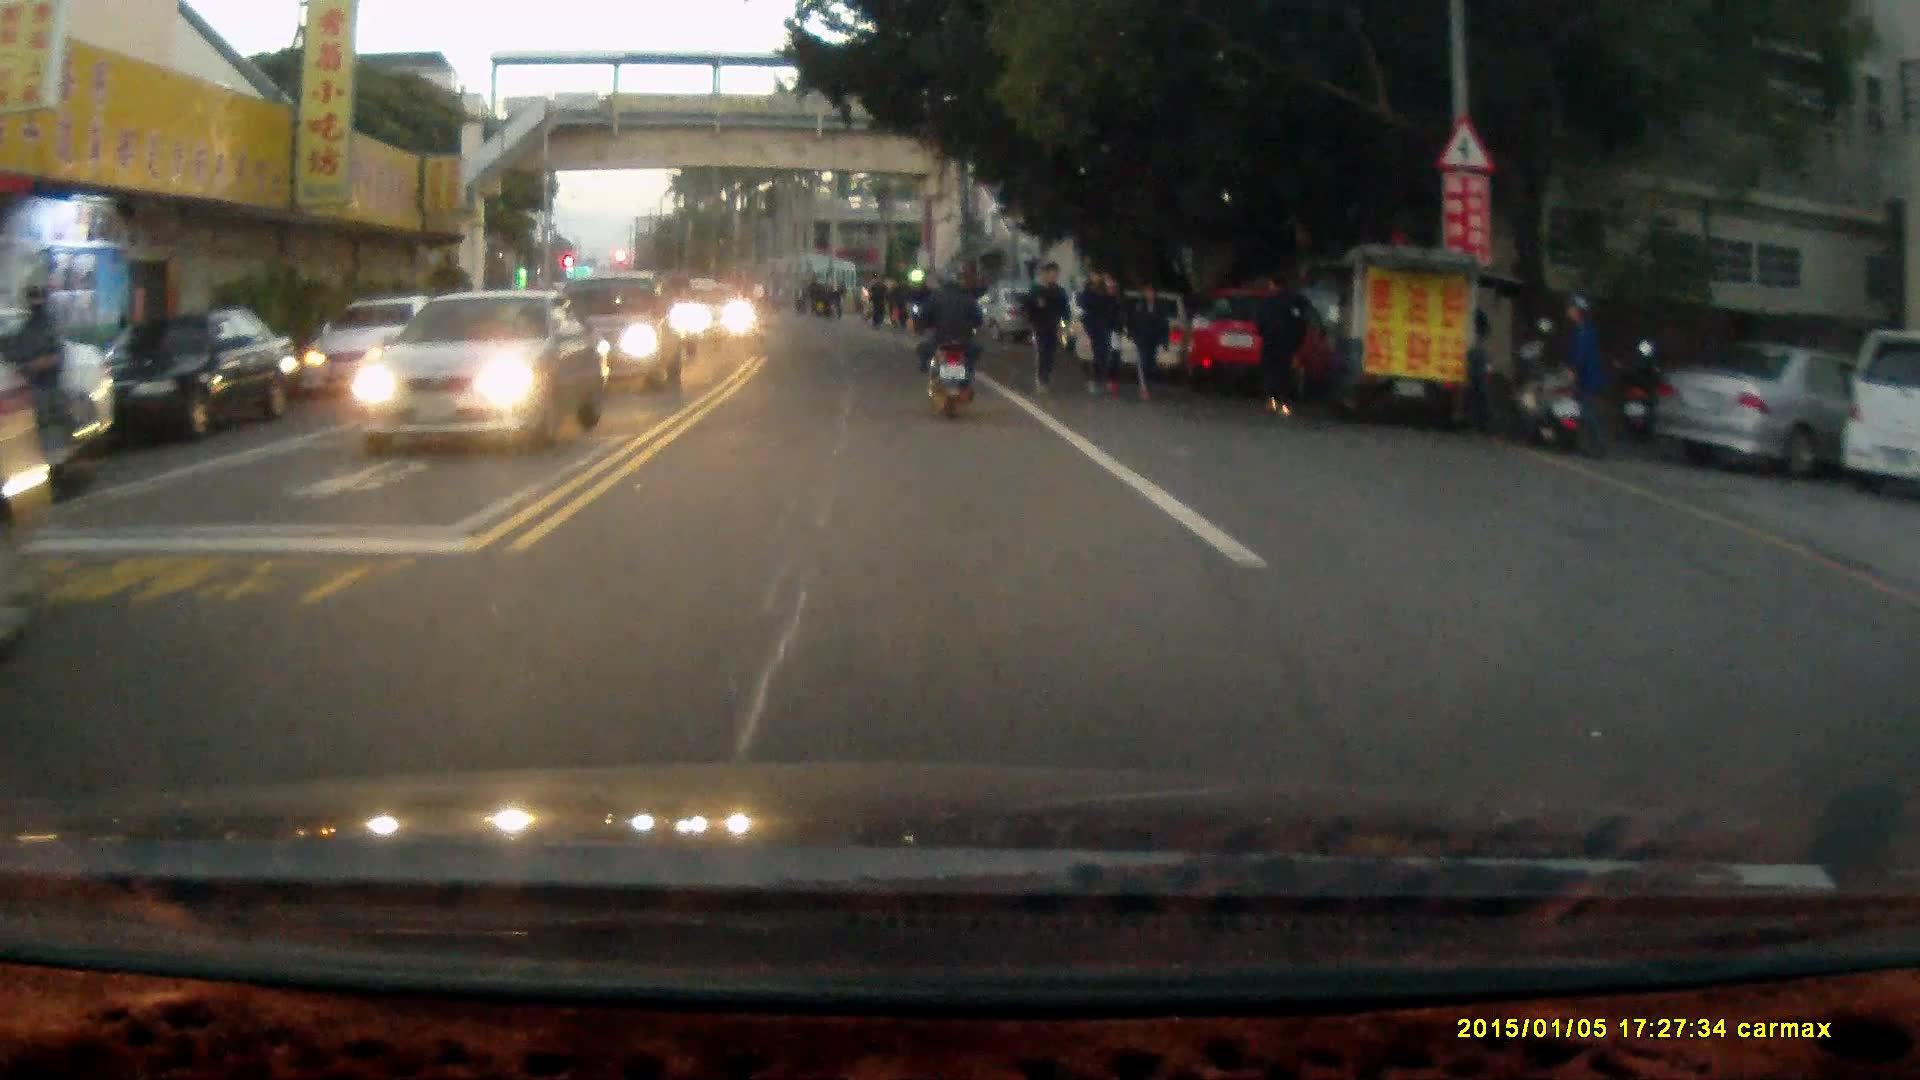pedestrian: (1248, 268, 1308, 420), (1554, 279, 1609, 445), (1019, 259, 1071, 400), (1128, 280, 1174, 407), (1078, 266, 1116, 400)
rider: (909, 265, 988, 424)
vehicle: (354, 287, 604, 445), (1658, 336, 1920, 476), (1182, 284, 1336, 393), (558, 268, 686, 391), (676, 283, 754, 345)
